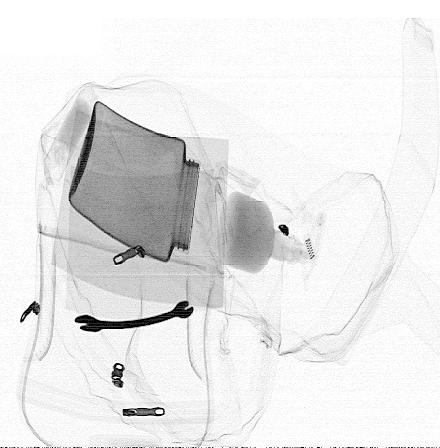Wrench: (74, 297, 196, 336)
